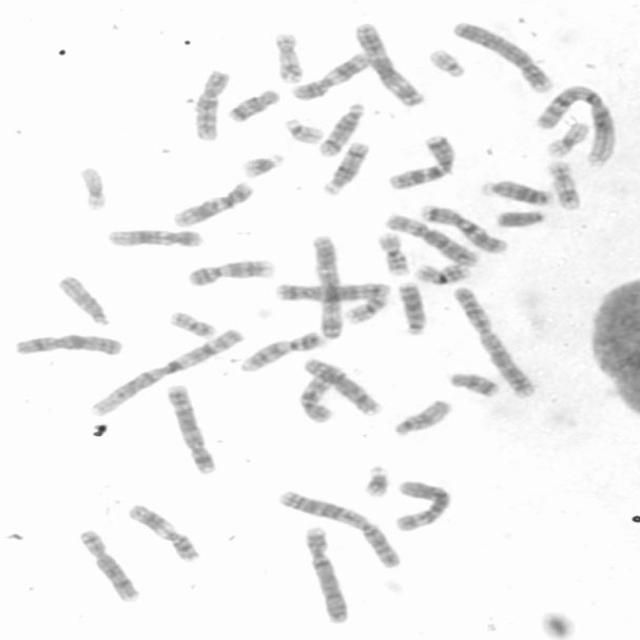A1: (85, 326, 247, 418), (531, 82, 620, 166)
A2: (450, 282, 541, 400), (274, 487, 403, 570)
A3: (350, 19, 426, 107), (306, 232, 345, 340)
B4: (447, 16, 555, 94), (300, 523, 352, 625)
B5: (164, 381, 218, 475), (271, 279, 393, 301)
C10: (294, 361, 344, 425), (191, 67, 231, 142)
C11: (125, 500, 202, 564), (288, 50, 372, 102)
C12: (168, 178, 256, 228), (102, 227, 204, 249)
C6: (381, 210, 478, 266), (391, 478, 452, 531)
C7: (416, 201, 511, 255), (383, 131, 458, 191)
C8: (300, 356, 384, 418), (75, 526, 140, 602)
C9: (236, 330, 325, 373), (185, 256, 278, 288)
D13: (476, 175, 554, 208), (393, 278, 429, 336)
D14: (315, 100, 367, 158), (321, 139, 371, 197)
D15: (54, 272, 112, 327), (389, 396, 453, 438)
E16: (374, 230, 412, 276), (411, 260, 470, 286)
E17: (543, 156, 583, 212), (271, 30, 305, 84)
E18: (223, 87, 280, 123), (445, 368, 502, 398)
F19: (542, 119, 591, 159), (76, 163, 109, 212)
F20: (347, 289, 390, 328), (166, 308, 217, 339)
G21: (238, 151, 286, 179), (359, 461, 392, 498)
G22: (425, 45, 467, 79), (282, 116, 324, 145)
X: (11, 330, 124, 358)
Y: (492, 208, 548, 230)
